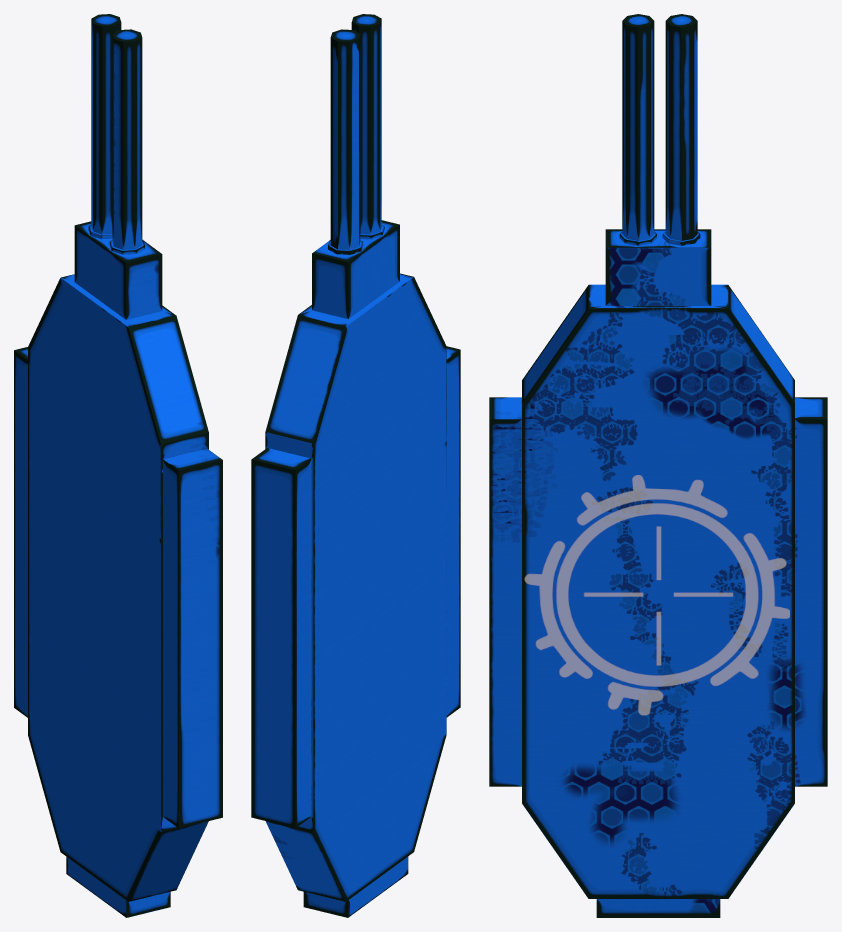
File: Aim_Board_Güncel.fbx
3 views of the same model, side by side, from view 1: azimuth 30°, elevation 25°; view 2: azimuth 150°, elevation 25°; view 3: azimuth 270°, elevation 25° (orthographic). The views are drawn at different scales.
Visible parts, largest first — view 1: Circle; view 2: Circle; view 3: Circle.
Boxes of the visible parts, box(x1,y1,x2,y2) form: Circle: box(14, 14, 222, 917); Circle: box(251, 14, 460, 917); Circle: box(489, 14, 827, 917).
Size of the model in its own units: 26.37 by 452 by 157.
Materials: 1 (1 with a texture image).
